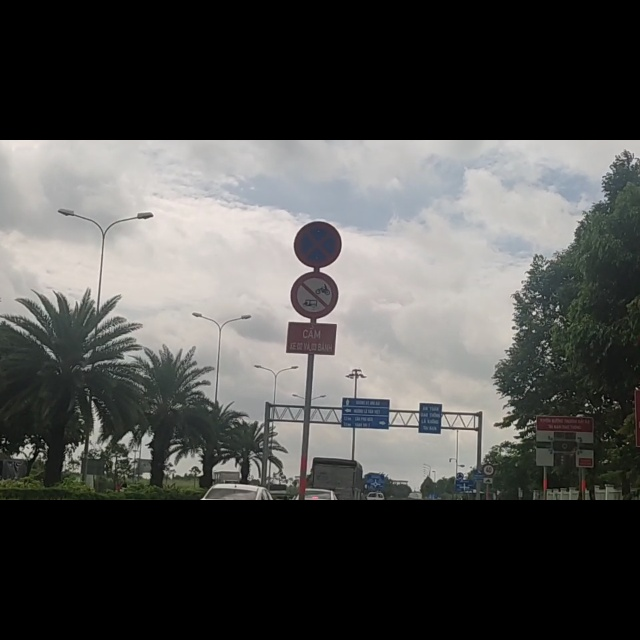bien_nguy_hiem: (292, 142, 343, 231), (291, 231, 339, 319)
